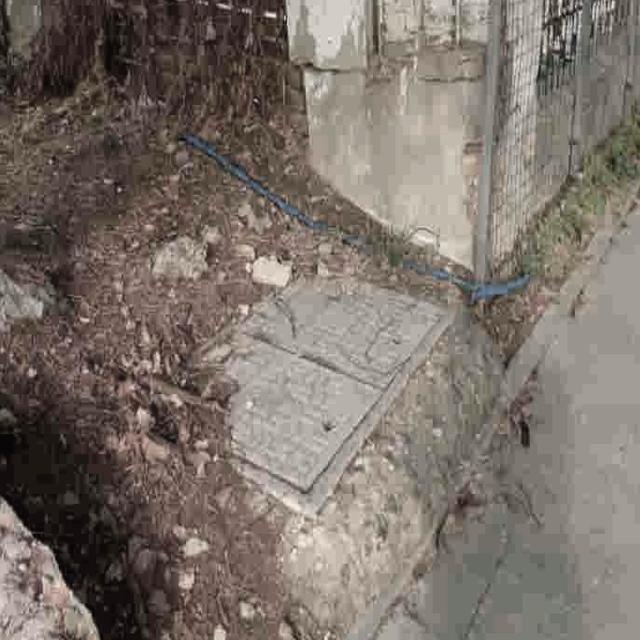good: (176, 265, 452, 517)
